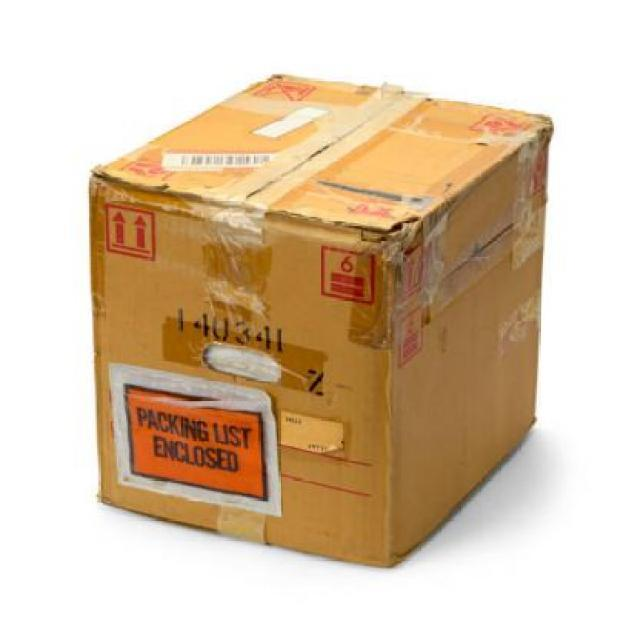box: (91, 73, 548, 567)
